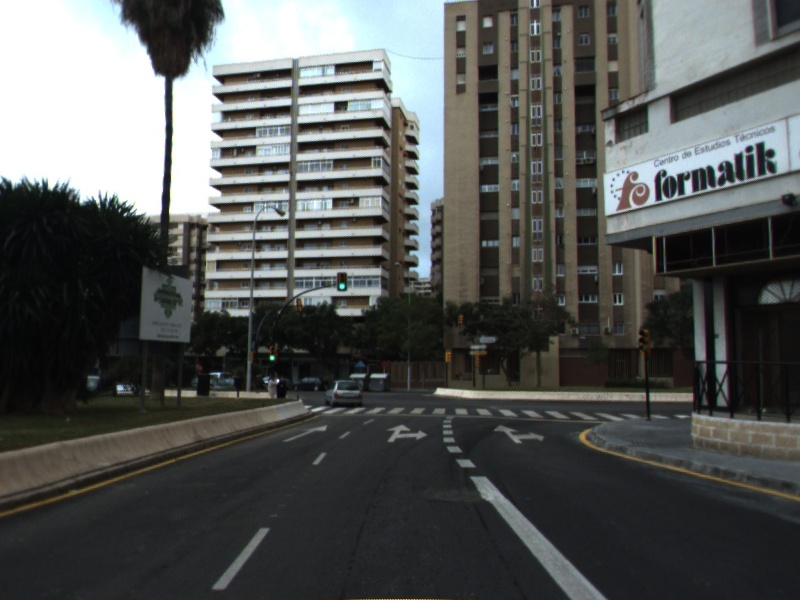STRAIGHT: (280, 423, 330, 444)
STRAIGHT_RIGHT: (491, 423, 546, 445), (383, 423, 430, 444)
